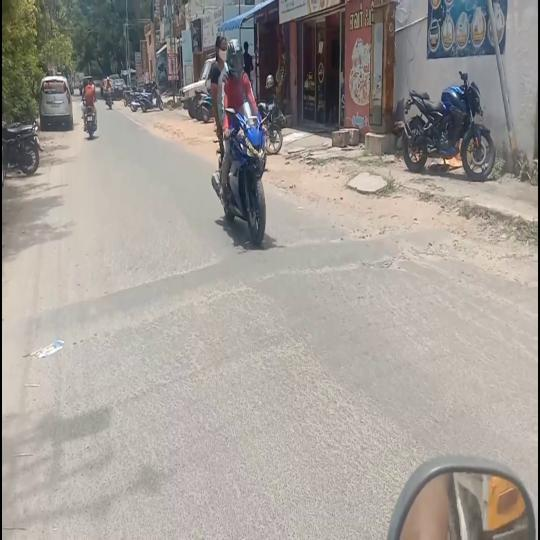Speed Bump: (6, 245, 305, 345), (305, 230, 463, 270)
